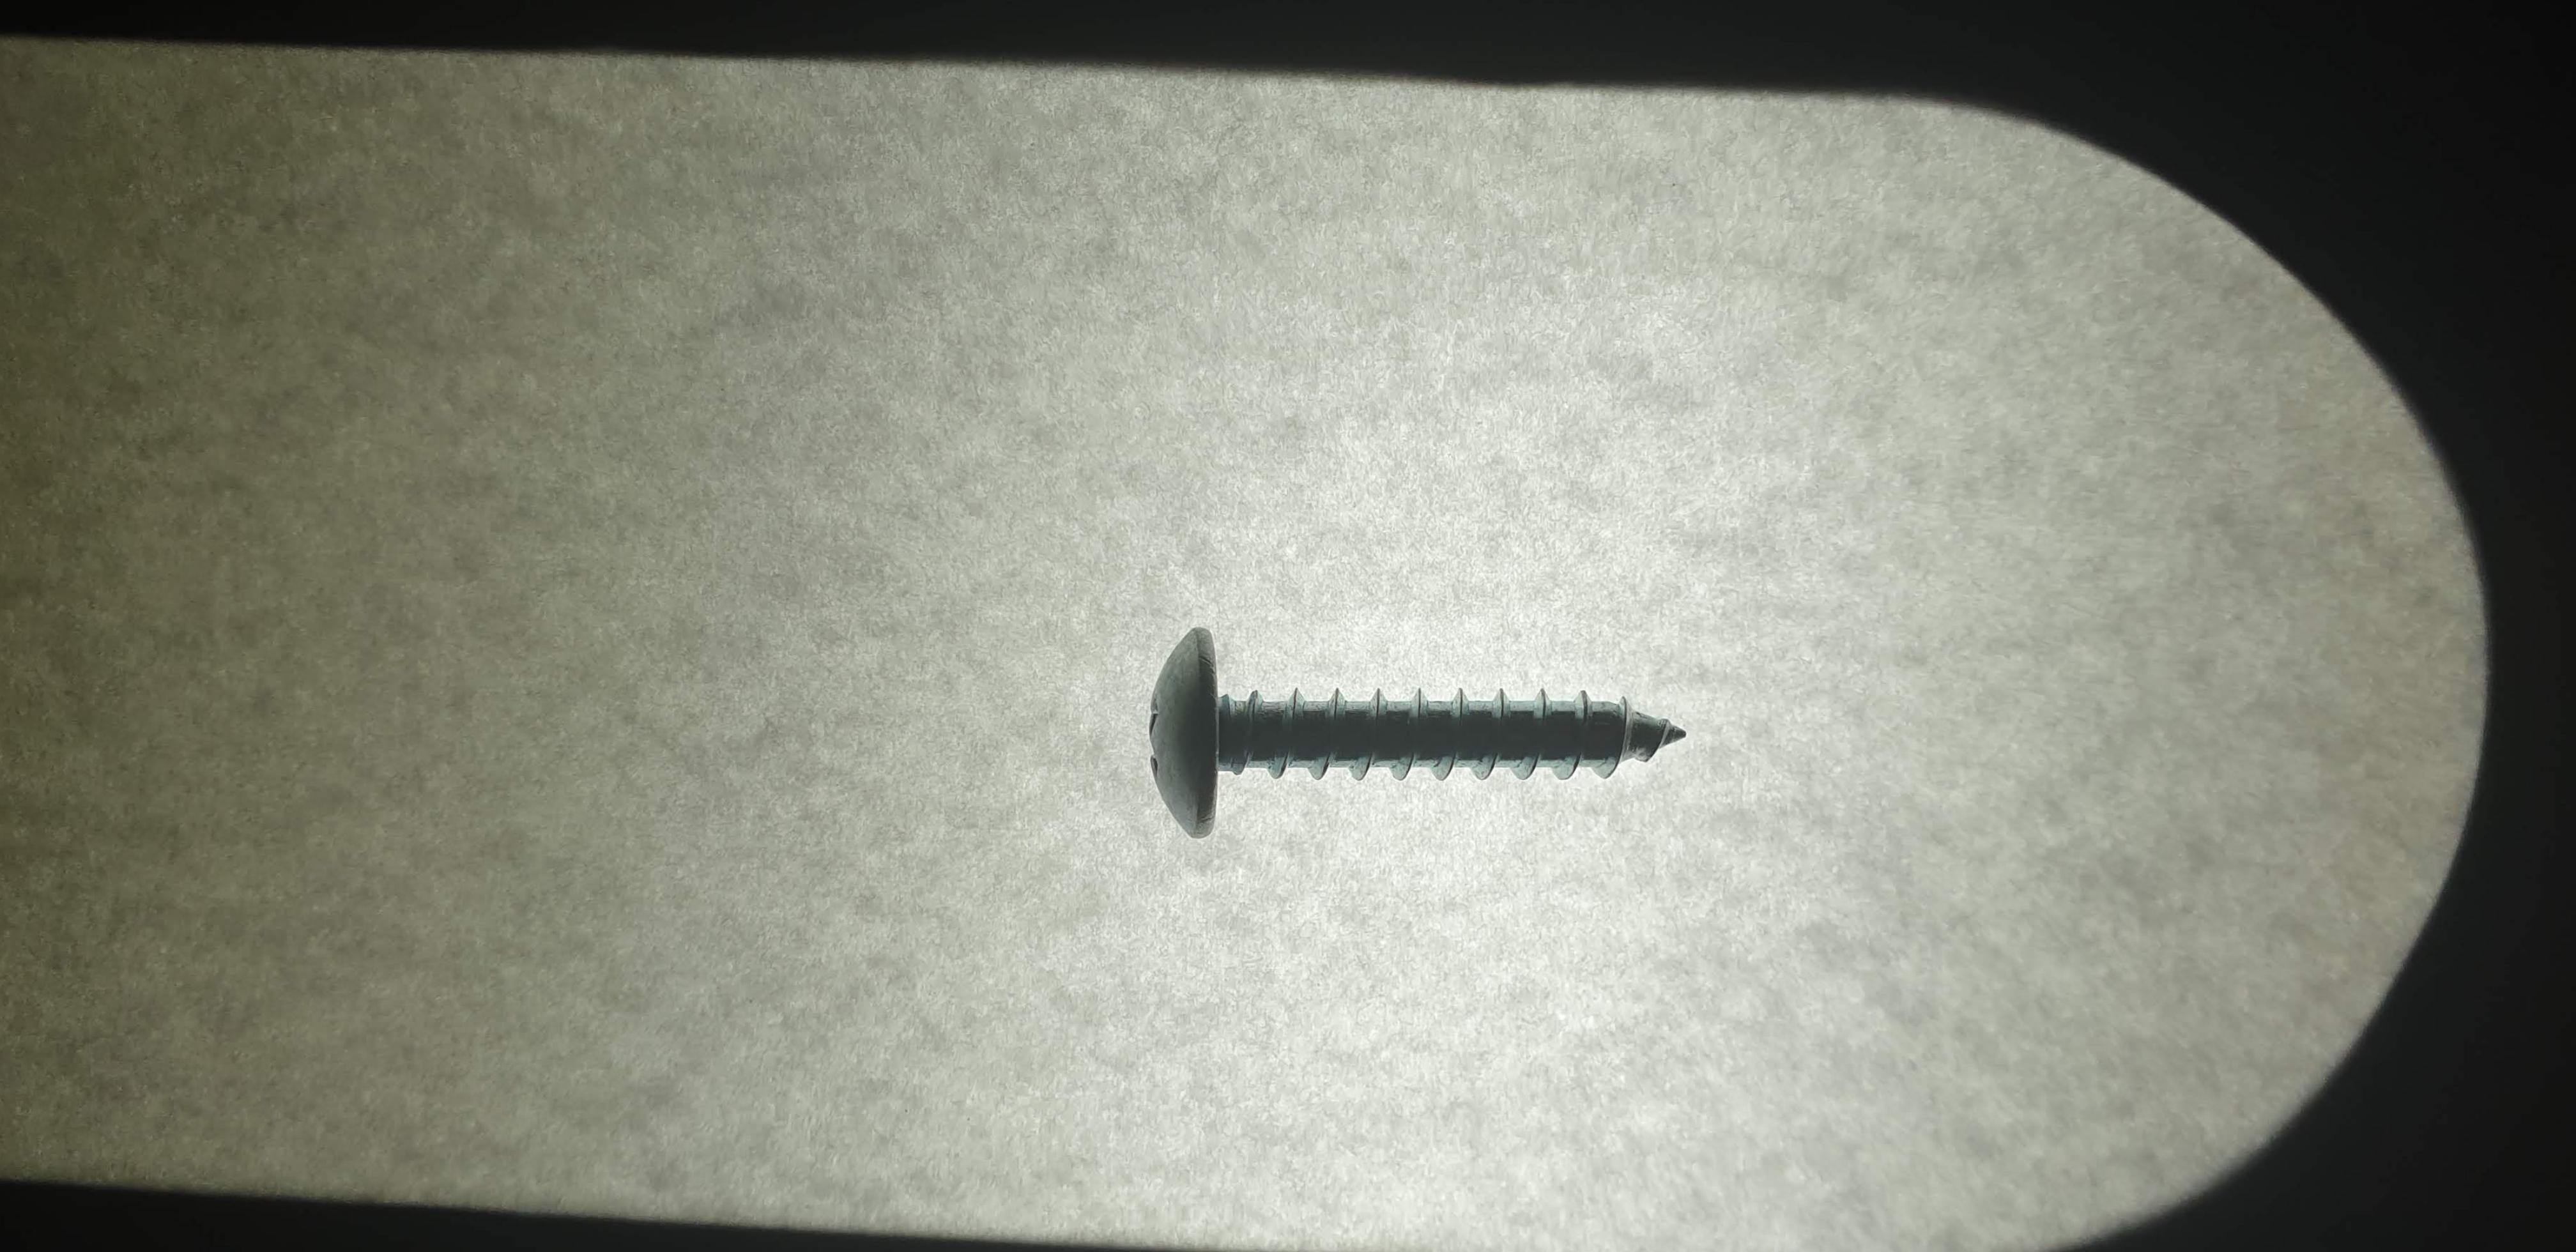S002: (1091, 583, 1753, 887)
